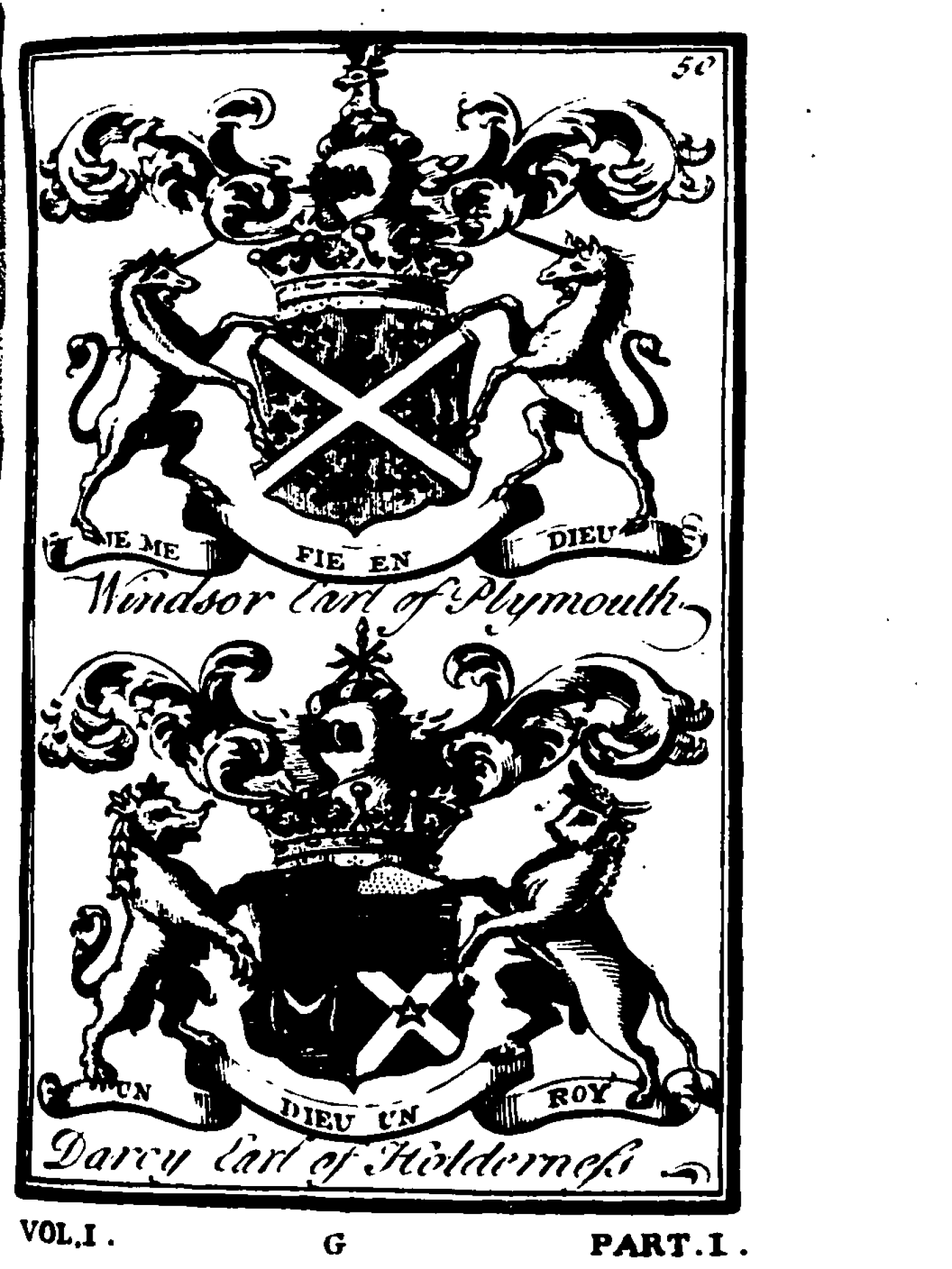coat_of_arms: (31, 62, 717, 630), (32, 629, 723, 1187)
